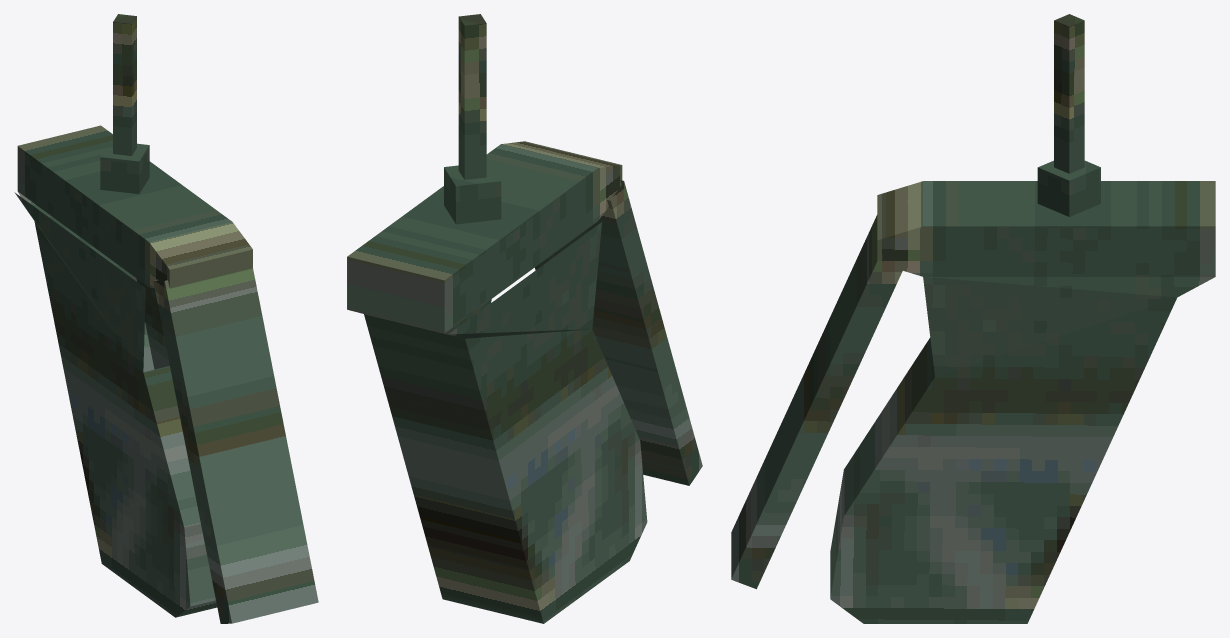
File: recovered_detonator.glb
3 renders of one model, left to right at view 1: azimuth 30°, elevation 25°; view 2: azimuth 150°, elevation 25°; view 3: azimuth 270°, elevation 25°, orthographic. The views are drawn at different scales.
Parts seen in each view (by area): view 1: Detonator_material_0; view 2: Detonator_material_0; view 3: Detonator_material_0.
Boxes of the visible parts, left/top/right/bottom form: Detonator_material_0: left=14, top=14, right=318, bottom=623; Detonator_material_0: left=347, top=14, right=702, bottom=623; Detonator_material_0: left=731, top=14, right=1215, bottom=623.
Bounding box in the file's own units: 0.0364 × 0.2019 × 0.1531.
Materials: 1 (1 with a texture image).
